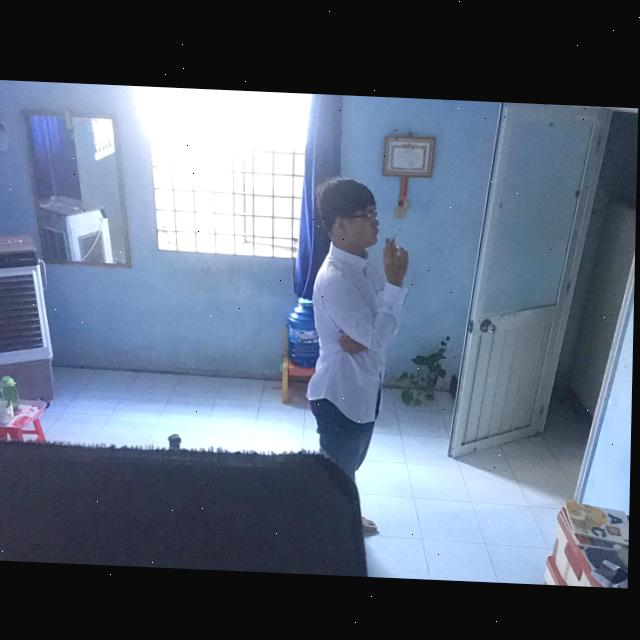cigarette: (390, 222, 402, 238)
